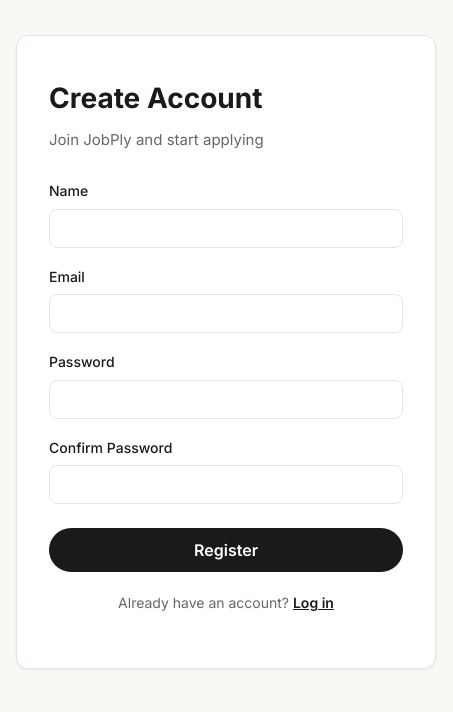
Test: RegisterForm › shows validation errors for empty fields
Click the button "Register" at x=226, y=550, box [49,528,403,572]
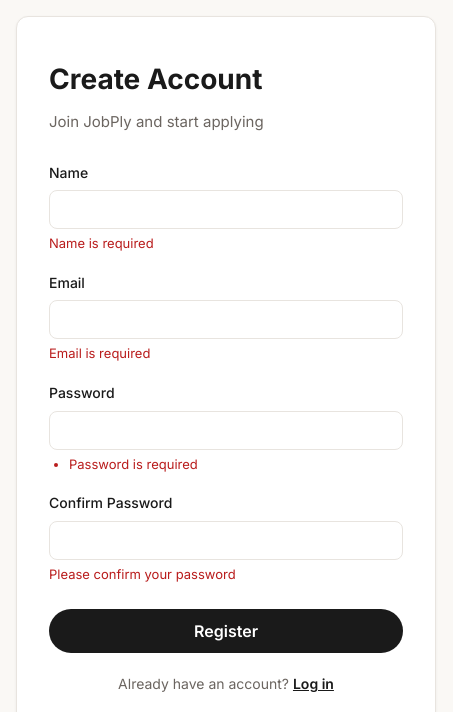
Result: the text "Name is required" is shown at [49,235,154,251]
Result: the text "Email is required" is shown at [49,345,150,361]
Result: the list item "Password is required" is shown at [69,456,198,472]
